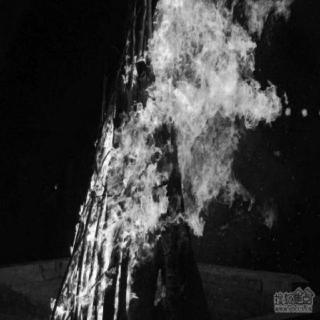Fire: (44, 1, 292, 318)
